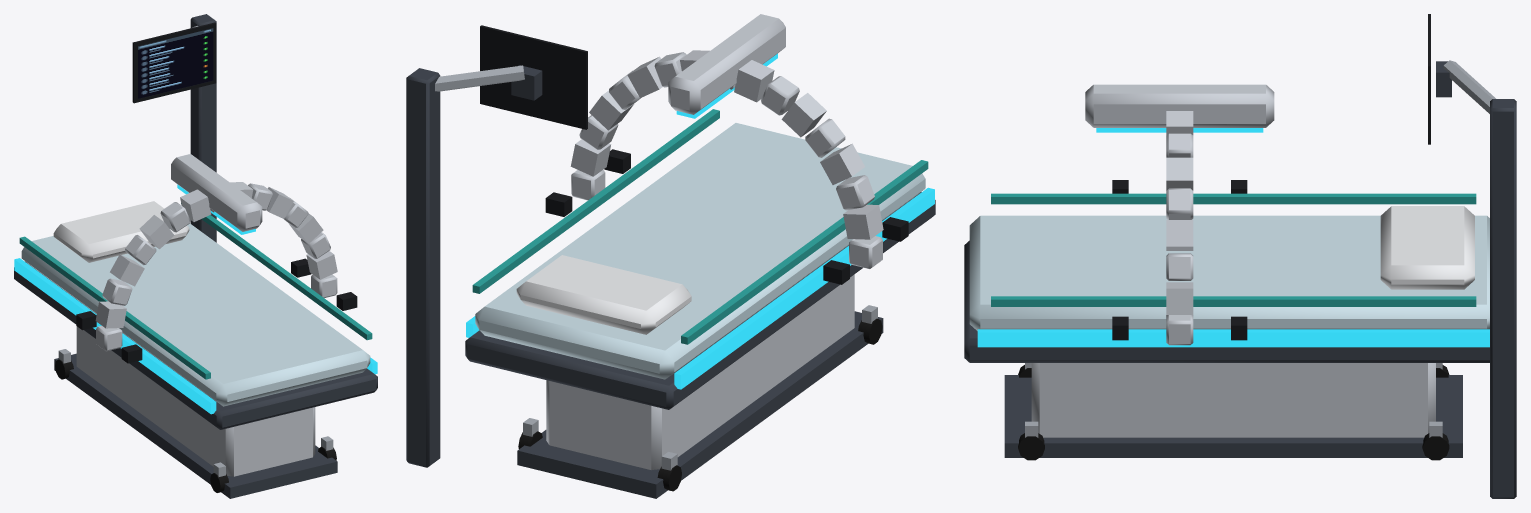
The model's file is medbed_diagnostic_biobed.glb.
3 renders of one model, left to right at view 1: azimuth 30°, elevation 25°; view 2: azimuth 150°, elevation 25°; view 3: azimuth 270°, elevation 25°, orthographic. The views are drawn at different scales.
Parts seen in each view (by area): view 1: medbed_diagnostic_biobed; view 2: medbed_diagnostic_biobed; view 3: medbed_diagnostic_biobed.
Boxes of the visible parts, box(x1,y1,x2,y2) form: medbed_diagnostic_biobed: box(14, 14, 377, 498); medbed_diagnostic_biobed: box(406, 14, 935, 498); medbed_diagnostic_biobed: box(964, 14, 1516, 498).
Bounding box in the file's own units: 1.32 × 1.71 × 2.05.
Materials: 10 (1 with a texture image).
